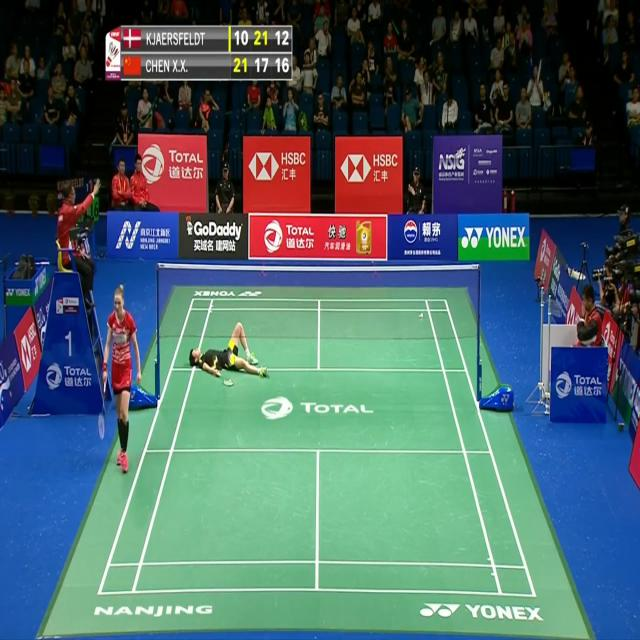Player1: (96, 281, 144, 476)
Player2: (185, 317, 271, 391)
